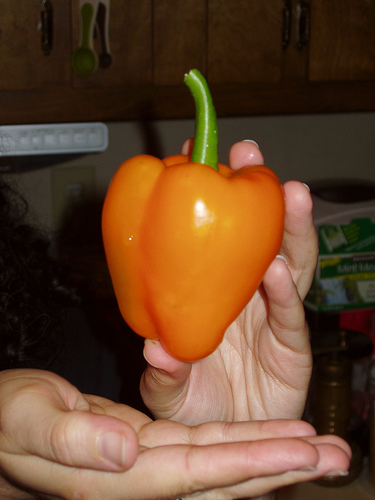capsicum: (98, 70, 288, 367)
